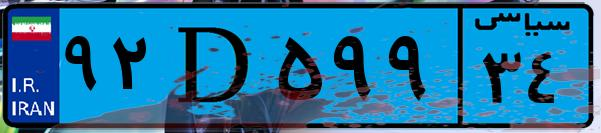2: (110, 28, 158, 98)
3: (475, 38, 525, 113)
4: (525, 38, 570, 115)
5: (270, 28, 330, 110)
9: (385, 28, 445, 110), (330, 28, 385, 110), (57, 26, 110, 100)
D: (158, 12, 270, 120)
